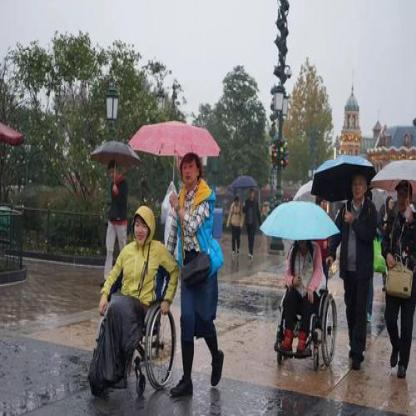wheelchair: (94, 199, 180, 397), (274, 214, 340, 375)
